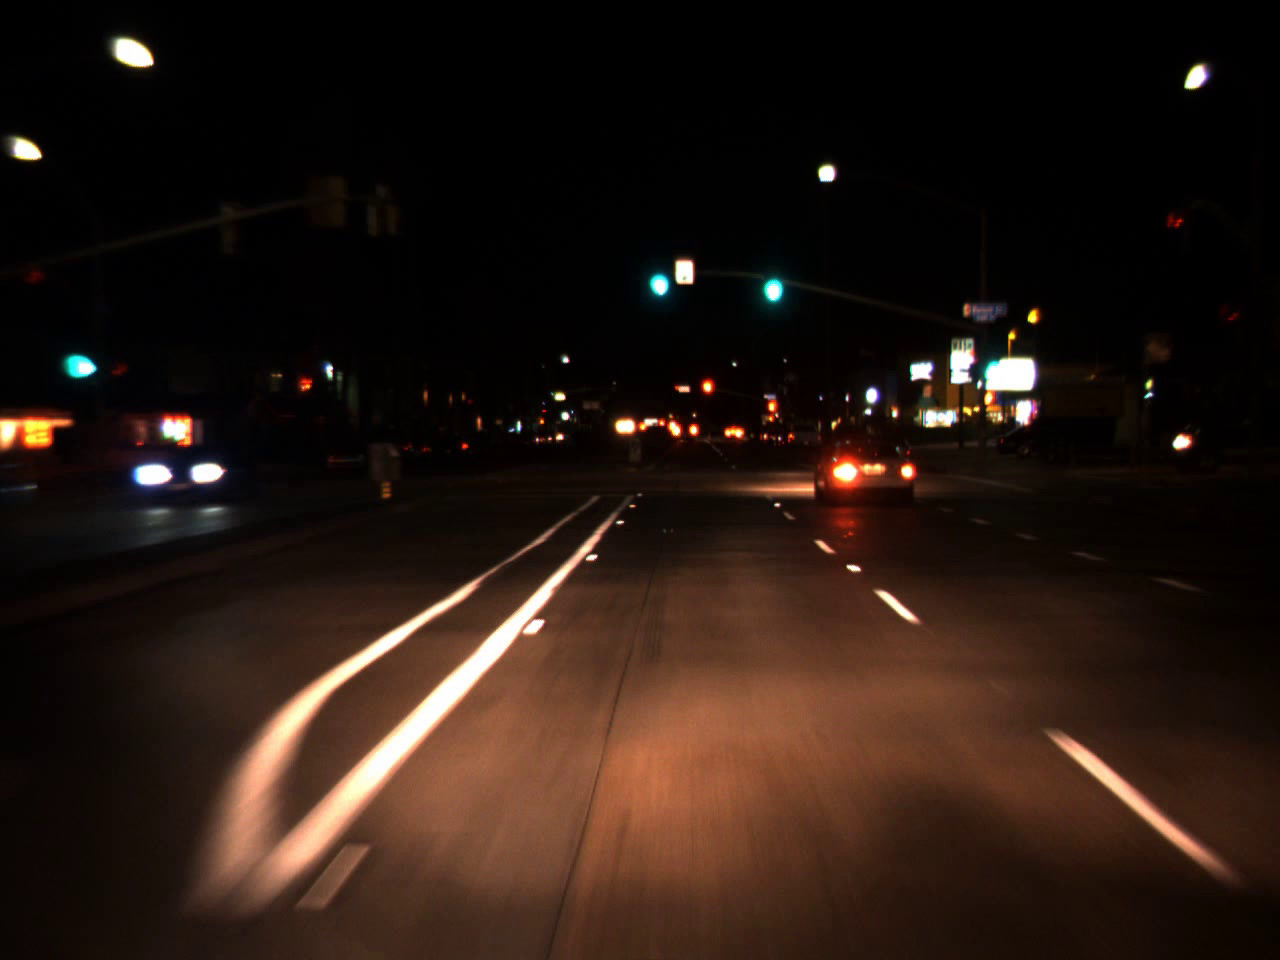go: (56, 324, 97, 387), (755, 250, 787, 310), (642, 249, 672, 303), (977, 336, 1004, 387)
stop: (700, 378, 713, 410), (767, 397, 779, 429)
